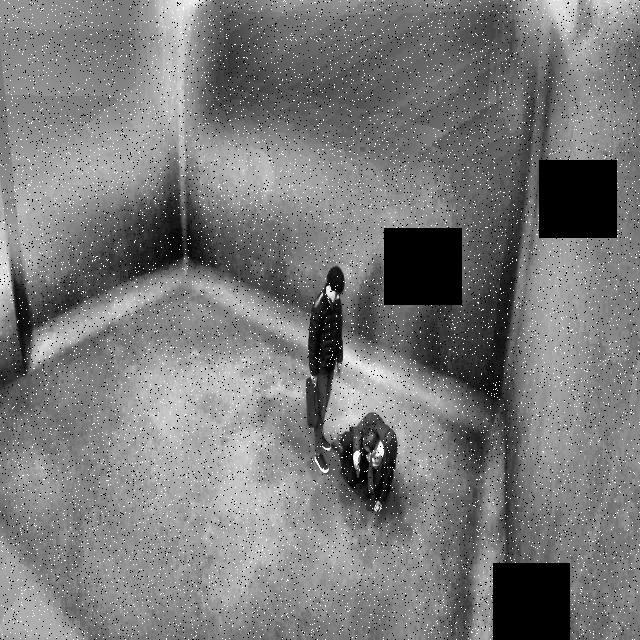assult: (304, 249, 416, 528), (328, 413, 408, 518)
